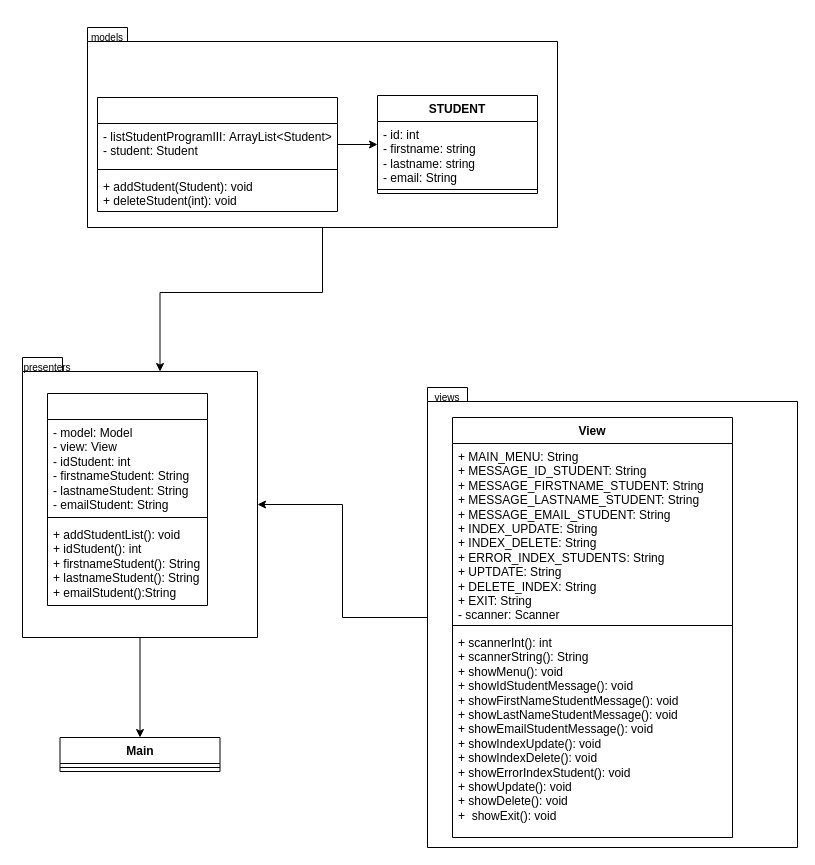
Some shapes in this 815 by 865 pixel diagram are drawn without their labels. Each missing label, with the box of its shape:
MODEL: (96, 96, 338, 212)
PRESENTER: (46, 392, 208, 606)
